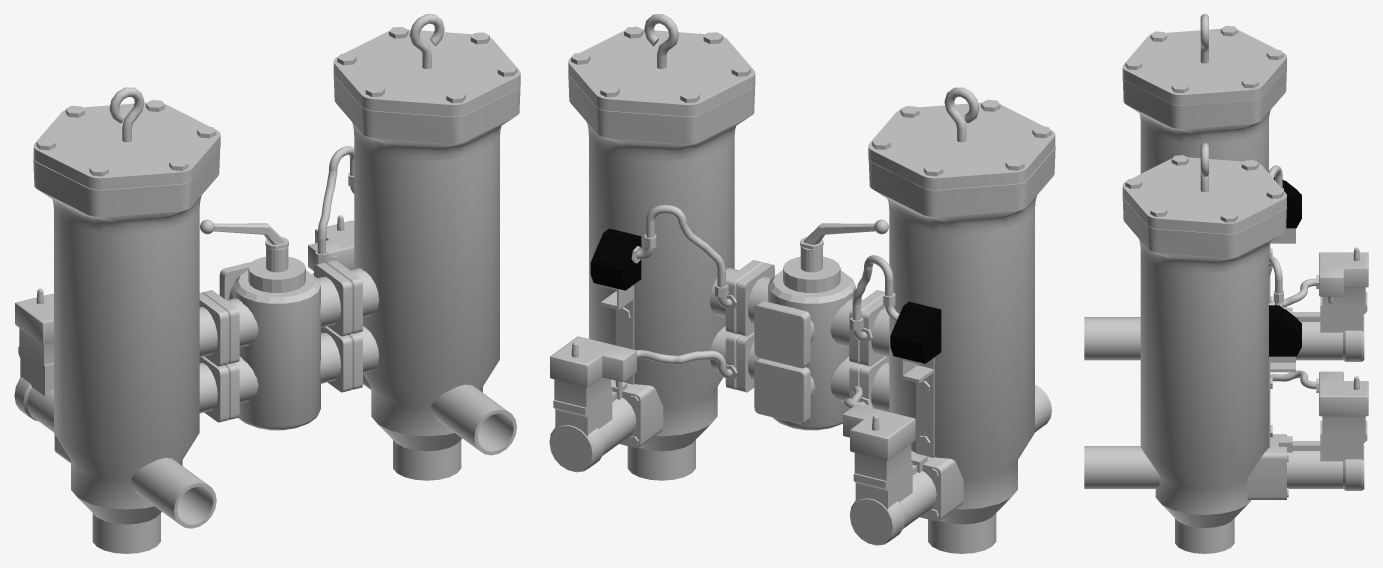
Rendered from fuelFilter.fbx.
3 views of the same model, side by side, from view 1: azimuth 30°, elevation 25°; view 2: azimuth 150°, elevation 25°; view 3: azimuth 270°, elevation 25° (orthographic). The views are drawn at different scales.
Visible parts, largest first — view 1: fuelFilter, filterLid, filterLid001, fuelFilter_handle; view 2: fuelFilter, filterLid, filterLid001, fuelFilterDiffPressureGauge001, fuelFilterDiffPressureGauge, fuelFilter_handle; view 3: fuelFilter, filterLid001, filterLid, fuelFilterDiffPressureGauge, fuelFilterDiffPressureGauge001.
Boxes of the visible parts, bbox=[...] form: fuelFilter: bbox=[14, 74, 520, 553]; filterLid: bbox=[333, 14, 520, 116]; filterLid001: bbox=[33, 87, 220, 189]; fuelFilter_handle: bbox=[200, 219, 288, 249]; fuelFilter: bbox=[549, 74, 1055, 553]; filterLid: bbox=[568, 14, 755, 116]; filterLid001: bbox=[868, 87, 1055, 189]; fuelFilterDiffPressureGauge001: bbox=[890, 301, 941, 363]; fuelFilterDiffPressureGauge: bbox=[590, 228, 641, 290]; fuelFilter_handle: bbox=[800, 219, 888, 249]; fuelFilter: bbox=[1084, 68, 1368, 553]; filterLid001: bbox=[1122, 14, 1286, 105]; filterLid: bbox=[1122, 142, 1286, 233]; fuelFilterDiffPressureGauge: bbox=[1269, 305, 1301, 356]; fuelFilterDiffPressureGauge001: bbox=[1274, 177, 1301, 228].
Size of the model in its own units: 107 by 101 by 65.65.
